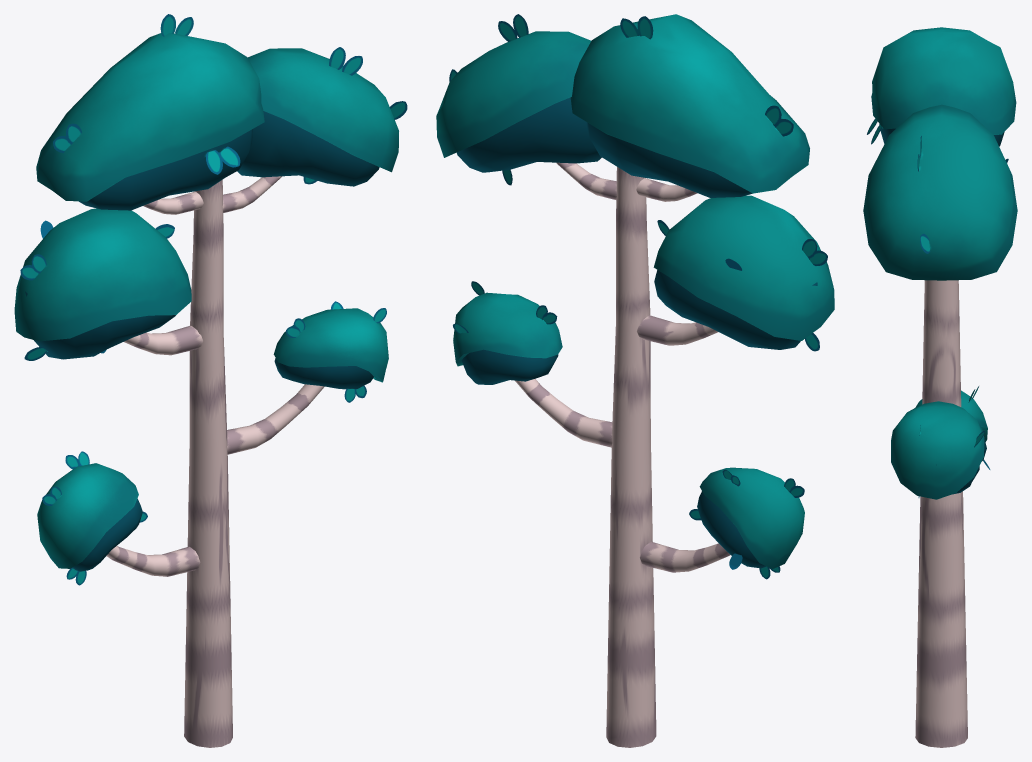
The model's file is Mesh Arvore1.fbx.
3 views of the same model, side by side, from view 1: azimuth 30°, elevation 25°; view 2: azimuth 150°, elevation 25°; view 3: azimuth 270°, elevation 25° (orthographic). The views are drawn at different scales.
Parts seen in each view (by area): view 1: arvore_AZUL; view 2: arvore_AZUL; view 3: arvore_AZUL.
Part boxes in pixels (box(x1,y1,x2,y2)): arvore_AZUL: box(14, 14, 407, 747); arvore_AZUL: box(436, 14, 834, 747); arvore_AZUL: box(863, 27, 1017, 747).
Bounding box in the file's own units: 543 × 987 × 194.
Materials: 1 (1 with a texture image).
